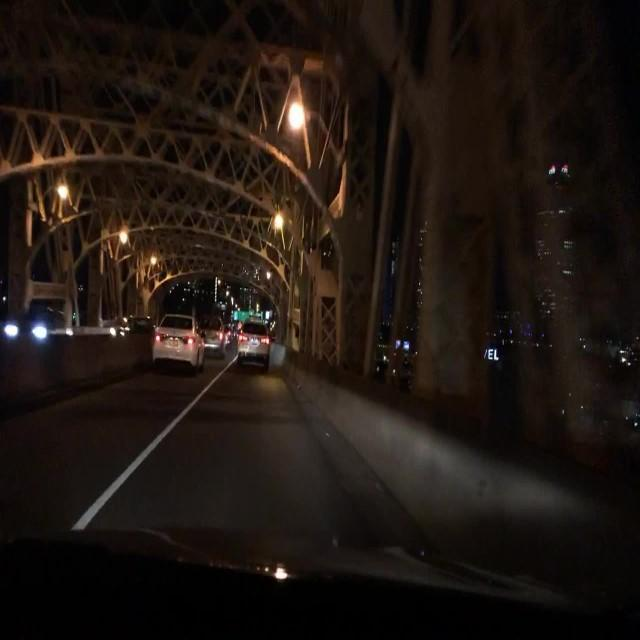normal: (141, 291, 284, 391)
